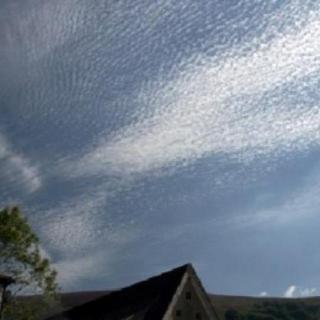Cirrocumulus: (0, 0, 320, 302)
